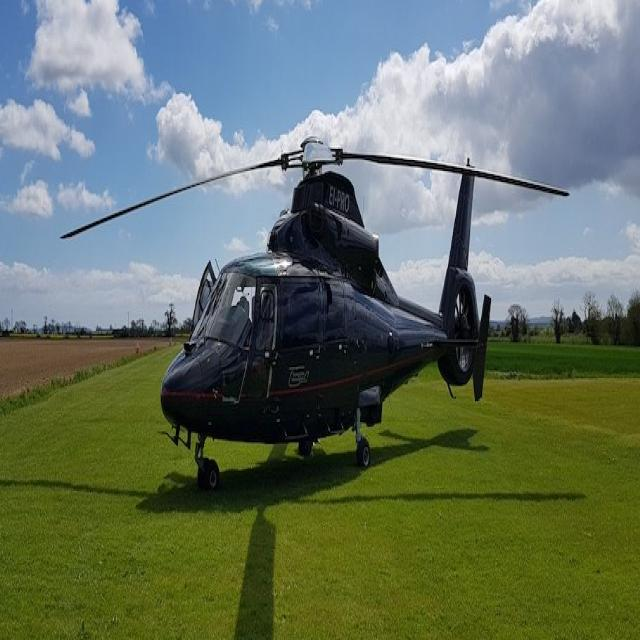helicopter: (60, 125, 578, 509)
